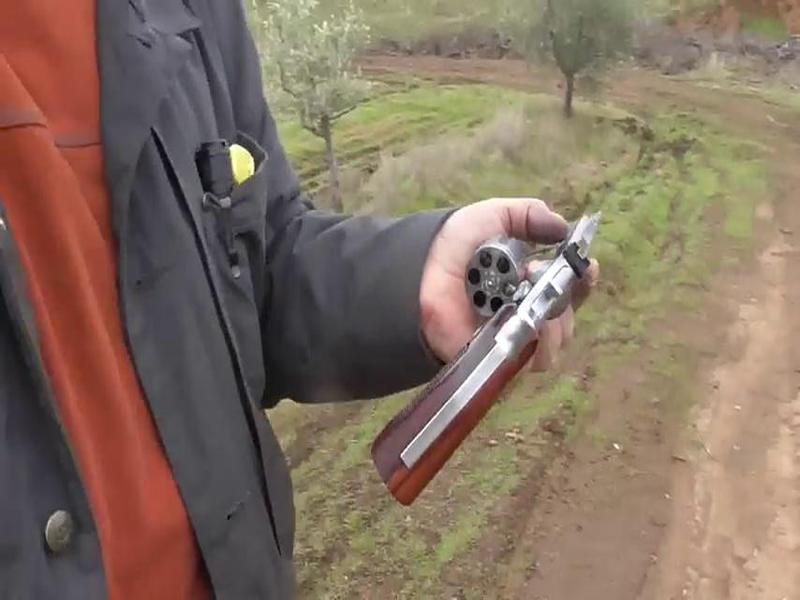Revolver: (417, 163, 604, 511)
